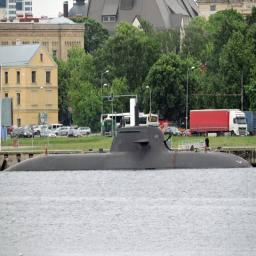submarine: (3, 127, 252, 173)
